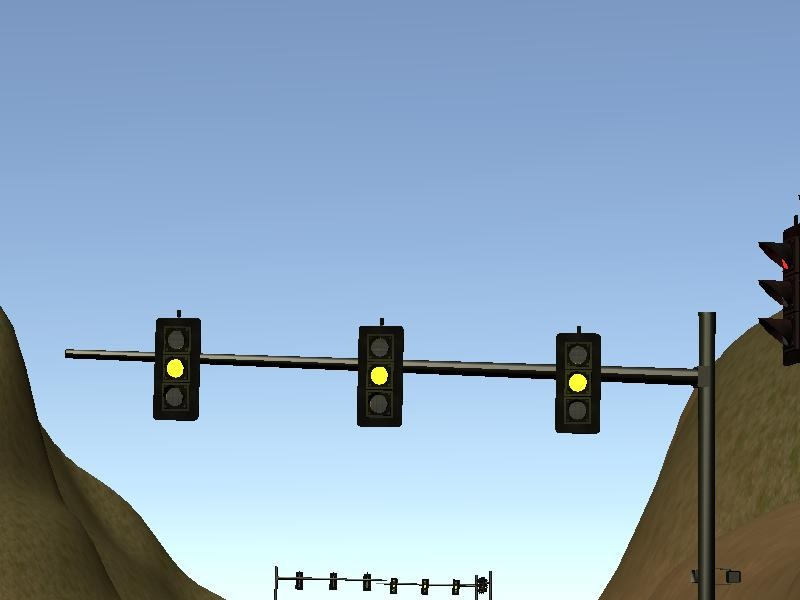YELLOW: (150, 310, 203, 422), (352, 315, 405, 427), (550, 325, 603, 437)
